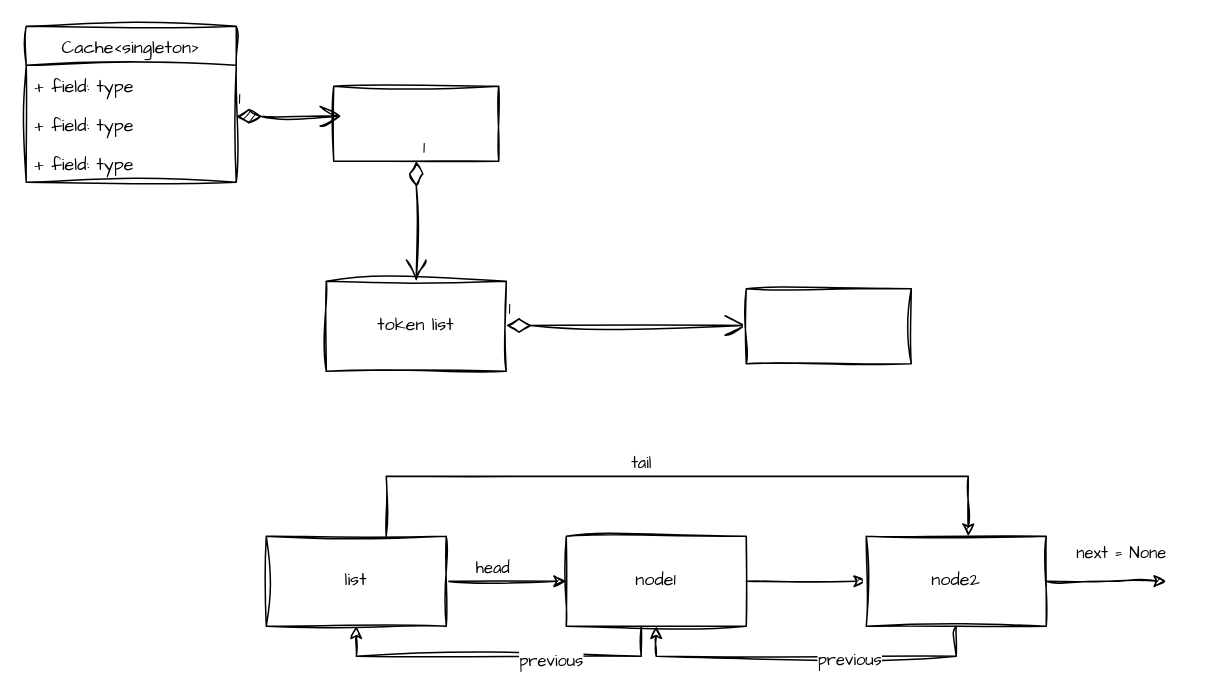
The diagram is 1205 pixels wide and 696 high, and some of its shapes have lost their labels. Here are the shapes that lost their labels. From the top down, the centre of each, then its label:
pixel 415 123: 同义词字典
pixel 828 325: token
